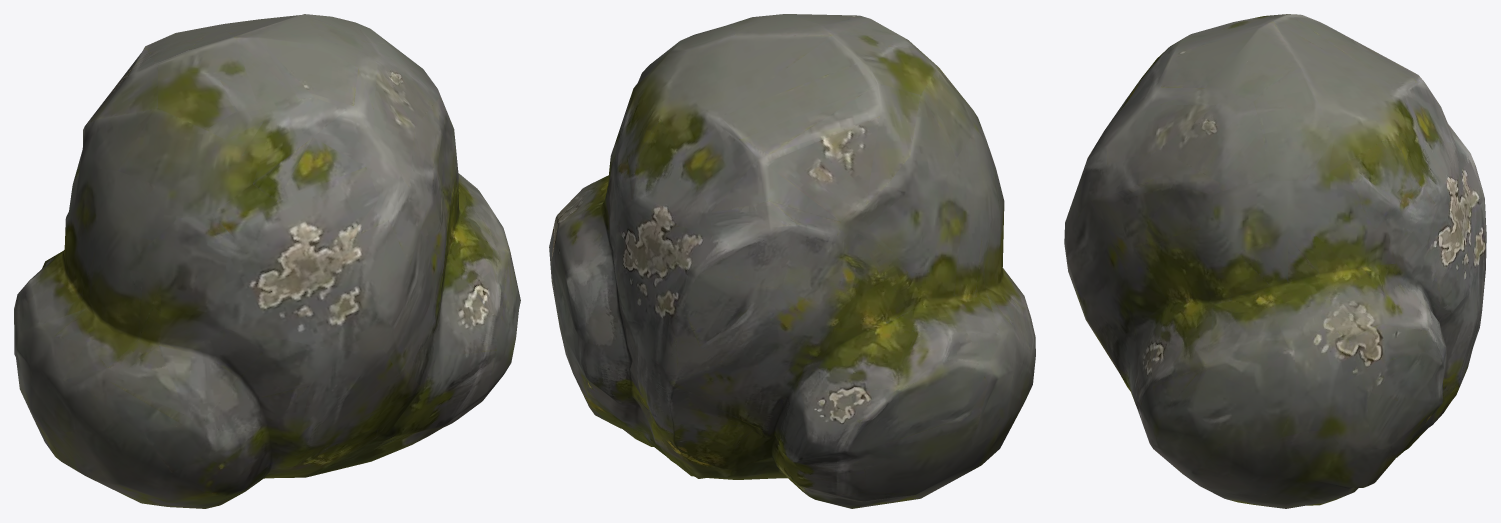
The model's file is boulder.glb.
The picture shows the model from 3 angles, left to right: view 1: azimuth 30°, elevation 25°; view 2: azimuth 150°, elevation 25°; view 3: azimuth 270°, elevation 25°; orthographic projection. The views are drawn at different scales.
Bounding box in the file's own units: 1.08 × 1 × 0.9077.
Materials: 1 (1 with a texture image).
